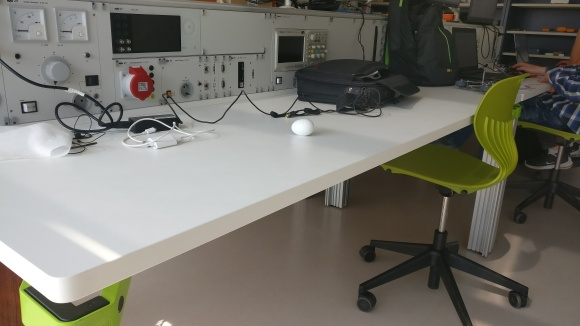egg: (290, 118, 315, 136)
